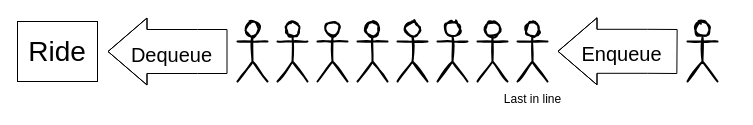
Image size: 753x125. Some labels were removed from this diagram. Here are the shapes that lost their labels. From the top down, the centre of each, then its label:
At (252,51): "First in line".
At (702,51): "Entering line".
